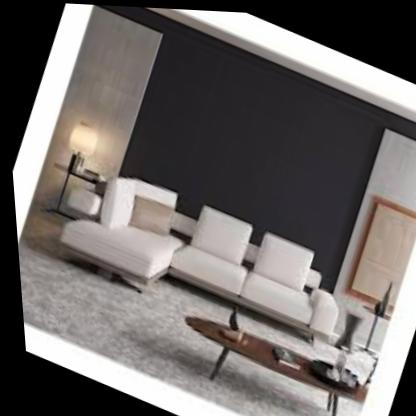Sofa: (27, 138, 378, 391)
